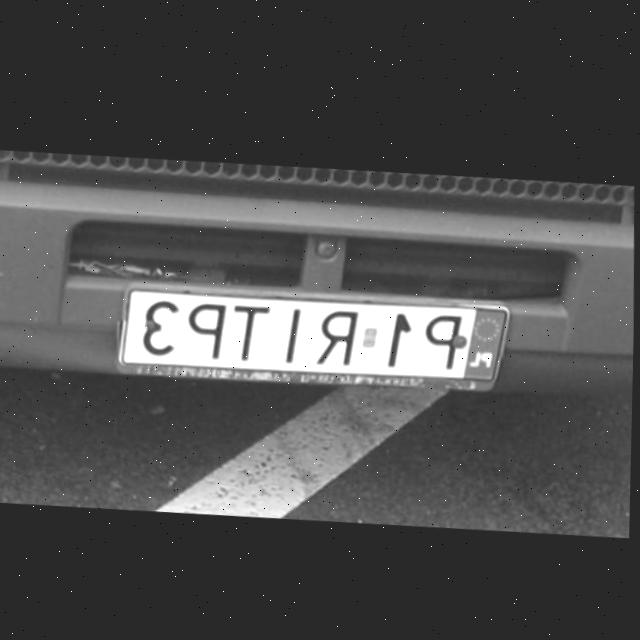license-plates: (117, 289, 507, 383)
